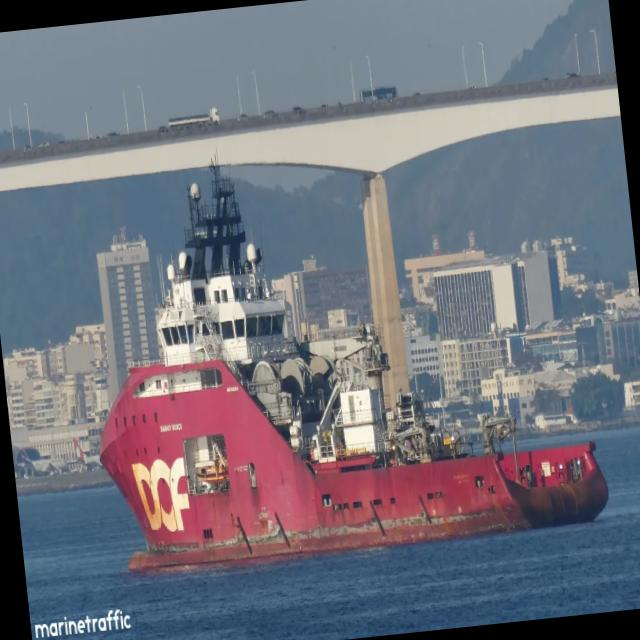Offshore: (100, 162, 608, 570)
